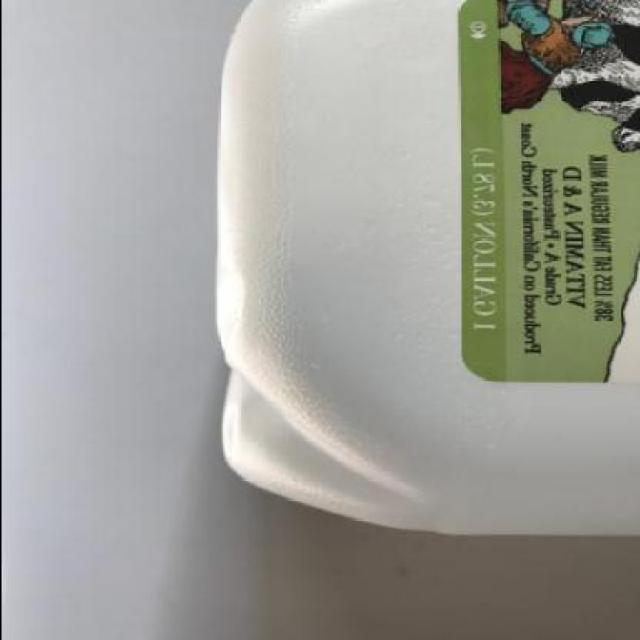PLASTIC: (210, 0, 637, 535)
